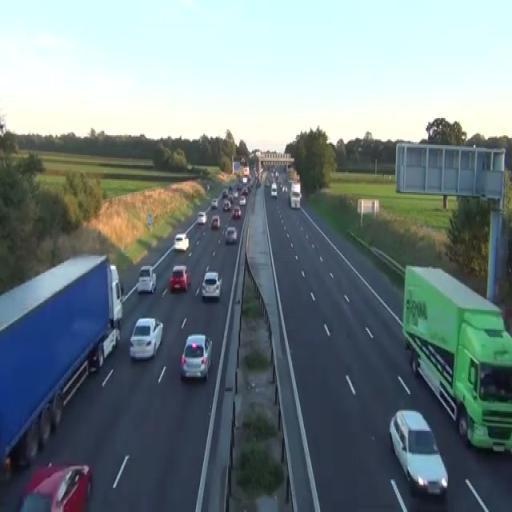Car: (389, 409, 448, 500), (18, 461, 94, 512), (179, 334, 213, 381), (129, 316, 163, 360), (201, 270, 223, 302), (137, 265, 157, 295), (169, 266, 191, 292), (173, 232, 190, 252), (224, 227, 238, 245), (210, 215, 220, 230)
Truck: (0, 254, 124, 476), (402, 264, 512, 454)
